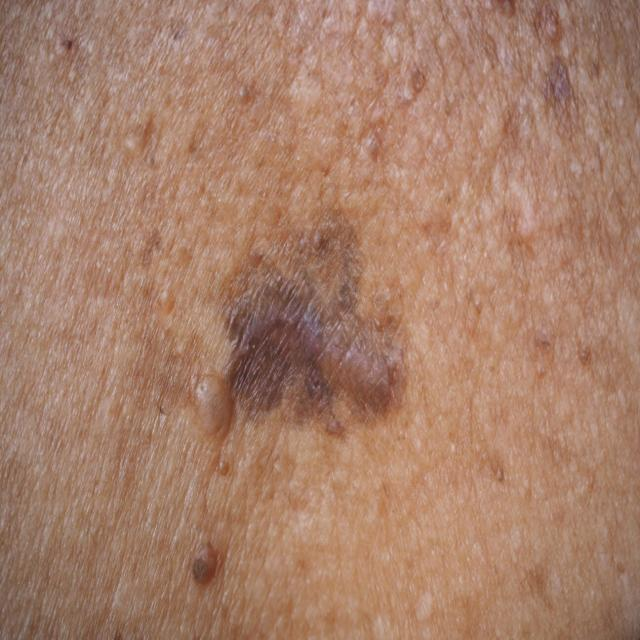Cancer: (203, 217, 419, 462)
